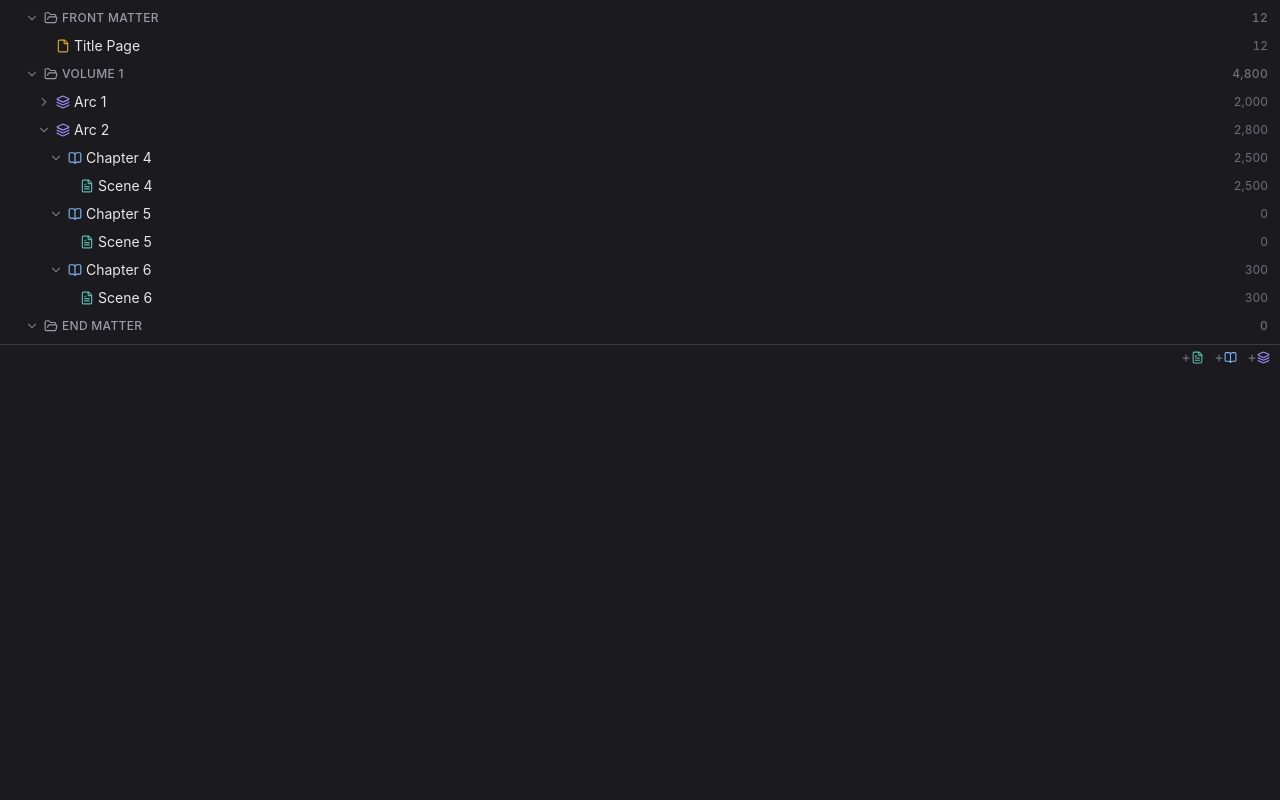
it: ManuscriptTree › creating into a collapsed chapter expands it so the new row is visible
This screenshot has width=1280, height=800.
Expected: the list item "Scene 1" is not shown
Click the button named "New scene": (1192, 358) x1=1177 y1=349 x2=1208 y2=366
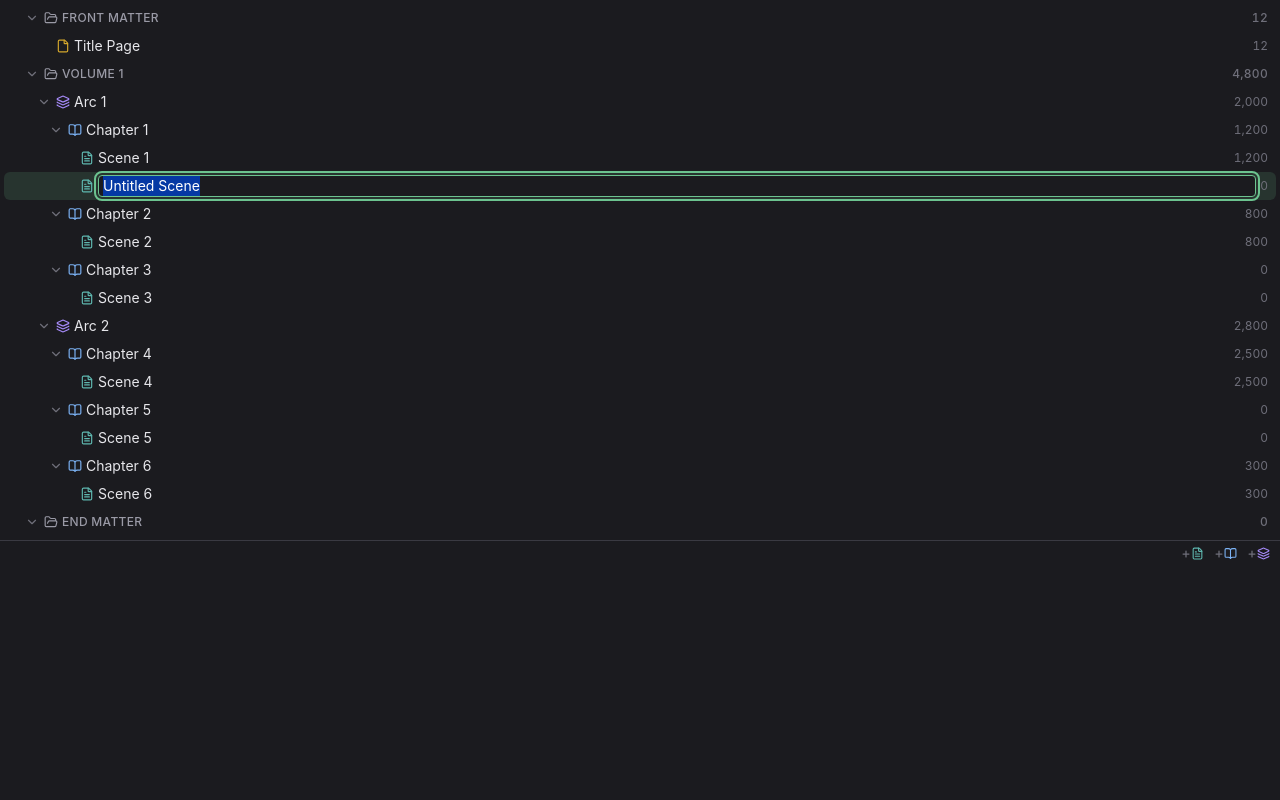
Expected: the list item named "Untitled Scene" is shown, x1=4 y1=172 x2=1276 y2=200
